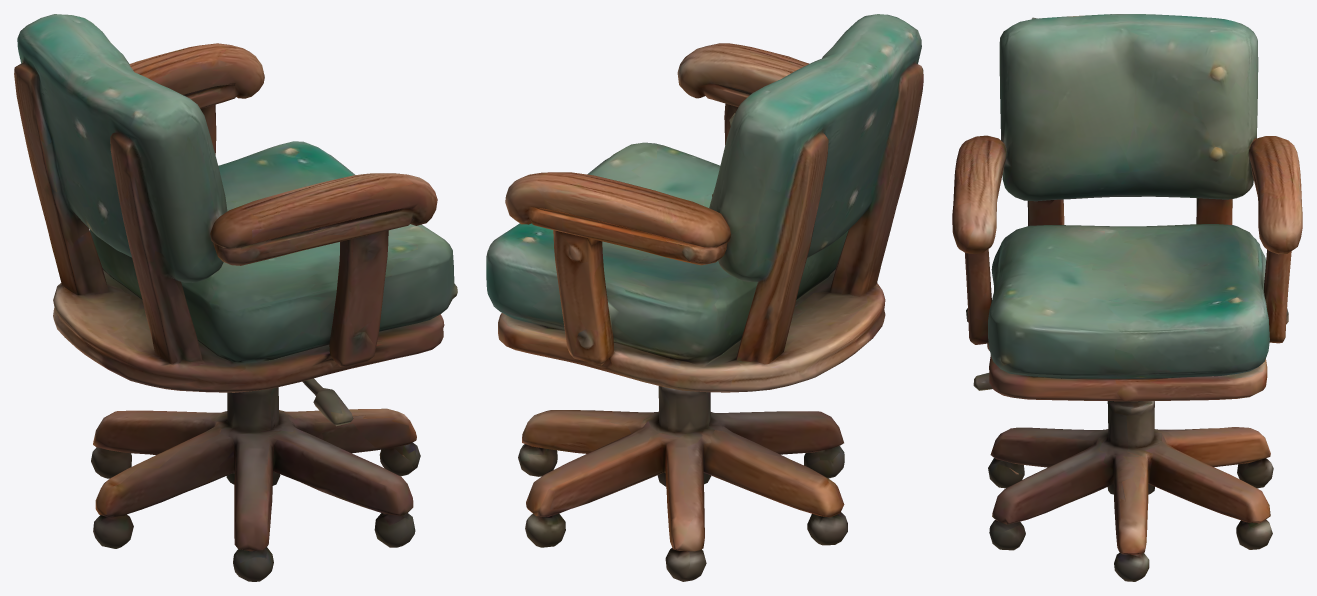
The model's file is deco_chair.glb.
3 views of the same model, side by side, from view 1: azimuth 30°, elevation 25°; view 2: azimuth 150°, elevation 25°; view 3: azimuth 270°, elevation 25° (orthographic). The views are drawn at different scales.
Parts seen in each view (by area): view 1: tripo_node_0ef2e3d8-c0ce-4199-8e1b-f5a9ddfc3124; view 2: tripo_node_0ef2e3d8-c0ce-4199-8e1b-f5a9ddfc3124; view 3: tripo_node_0ef2e3d8-c0ce-4199-8e1b-f5a9ddfc3124.
Boxes of the visible parts, x1,y1,x2,y2 form: tripo_node_0ef2e3d8-c0ce-4199-8e1b-f5a9ddfc3124: [14, 14, 457, 581]; tripo_node_0ef2e3d8-c0ce-4199-8e1b-f5a9ddfc3124: [486, 14, 923, 581]; tripo_node_0ef2e3d8-c0ce-4199-8e1b-f5a9ddfc3124: [952, 14, 1302, 581].
Bounding box in the file's own units: 0.7505 × 1 × 0.7343.
1 material, 1 textured.
